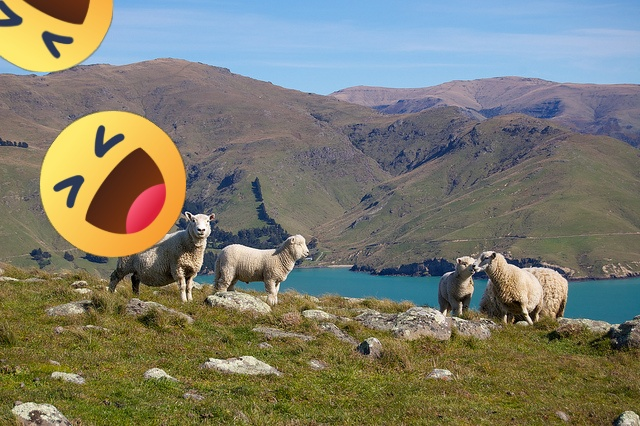haha: (40, 111, 186, 257), (0, 0, 113, 72)
